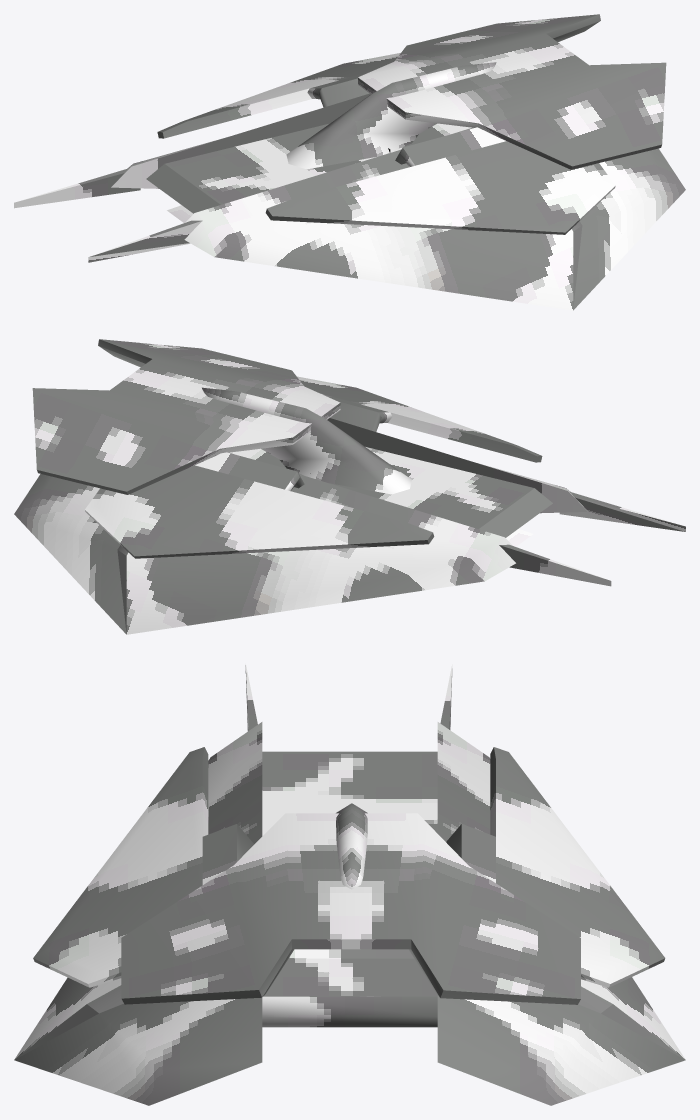
The model's file is PPVF01A.obj.
3 views of the same model, one above another, from view 1: azimuth 30°, elevation 25°; view 2: azimuth 150°, elevation 25°; view 3: azimuth 270°, elevation 25° (orthographic). The views are drawn at different scales.
Visible parts, largest first — view 1: ADVHULL0; view 2: ADVHULL0; view 3: ADVHULL0.
Part boxes in pixels (x1=…): ADVHULL0: x1=14, y1=14, x2=685, y2=310; ADVHULL0: x1=14, y1=339, x2=685, y2=634; ADVHULL0: x1=14, y1=664, x2=685, y2=1105.
Size of the model in its own units: 81.41 by 20.44 by 58.58.
Materials: 3 (3 with a texture image).
